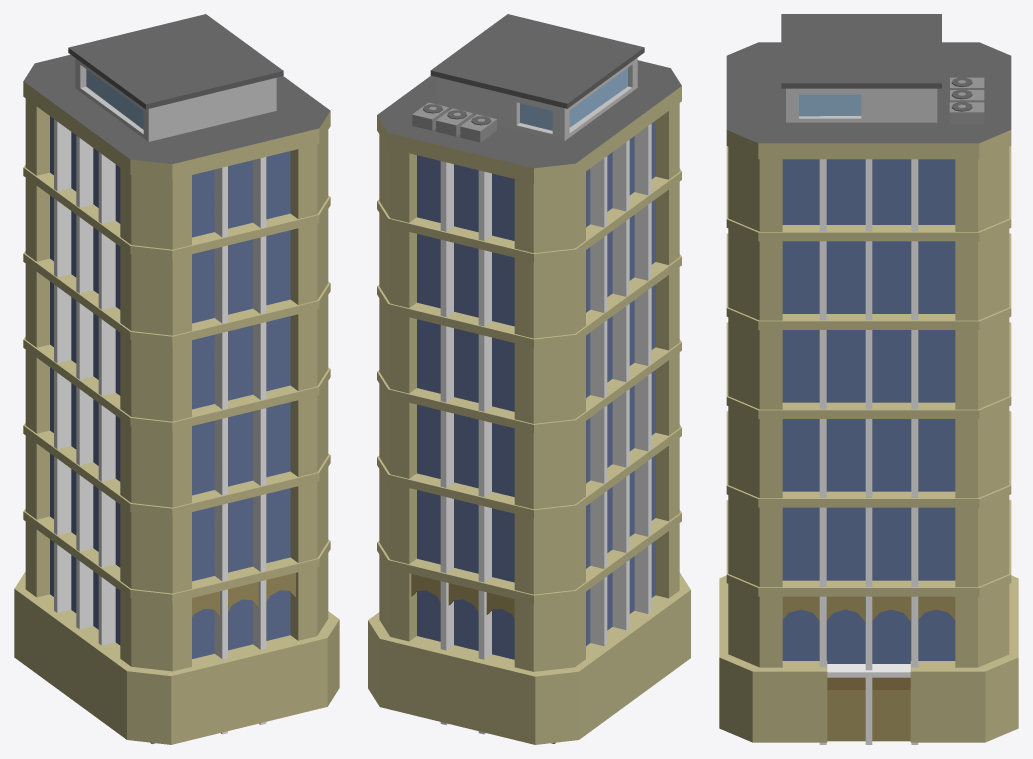
Rendered from house_middle_002.glb.
3 views of the same model, side by side, from view 1: azimuth 30°, elevation 25°; view 2: azimuth 150°, elevation 25°; view 3: azimuth 270°, elevation 25° (orthographic). The views are drawn at different scales.
Visible parts, largest first — view 1: house_middle_002; view 2: house_middle_002; view 3: house_middle_002.
Boxes of the visible parts, bbox=[...] form: house_middle_002: bbox=[14, 14, 339, 744]; house_middle_002: bbox=[368, 14, 690, 744]; house_middle_002: bbox=[719, 14, 1018, 744].
Bounding box in the file's own units: 6.41 × 17.98 × 7.58.
Materials: 1 (1 with a texture image).
